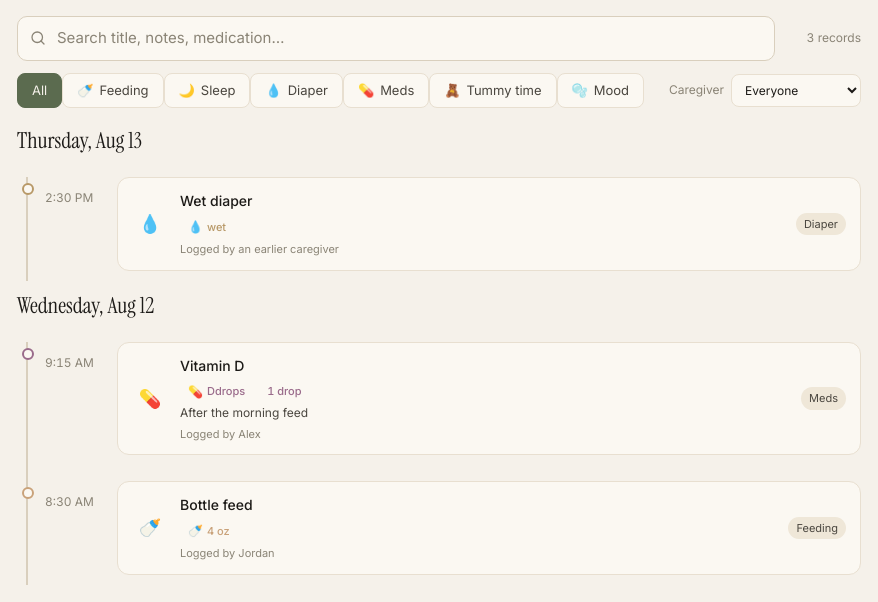
Test: TodayScreen timeline search › combines search and category filters and can reset both
This screenshot has width=878, height=602.
Click the button "🍼Feeding".
click(113, 90)  # box x1=62 y1=72 x2=164 y2=108
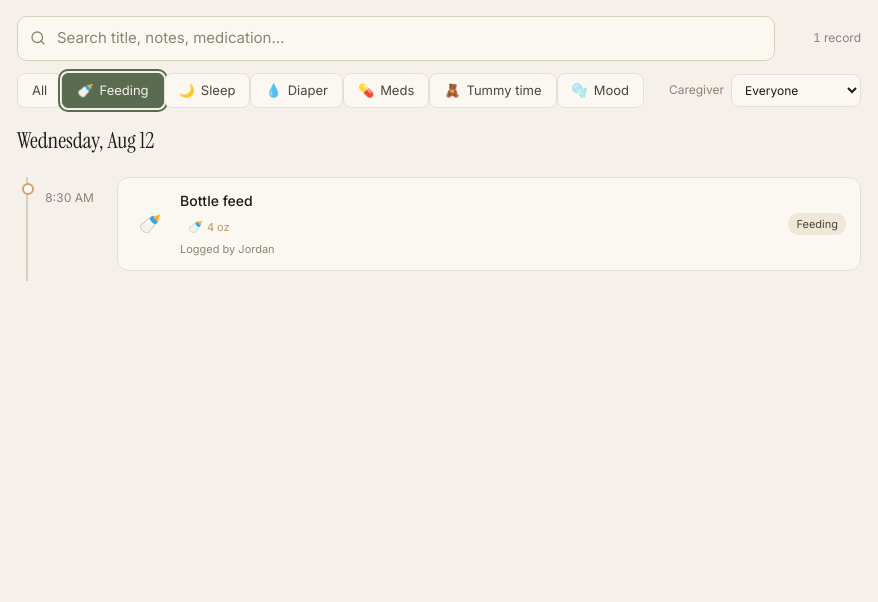
Type "vitamin" into the search field named "Search timeline".
click(409, 38); type("vitamin")  # box x1=55 y1=26 x2=763 y2=50
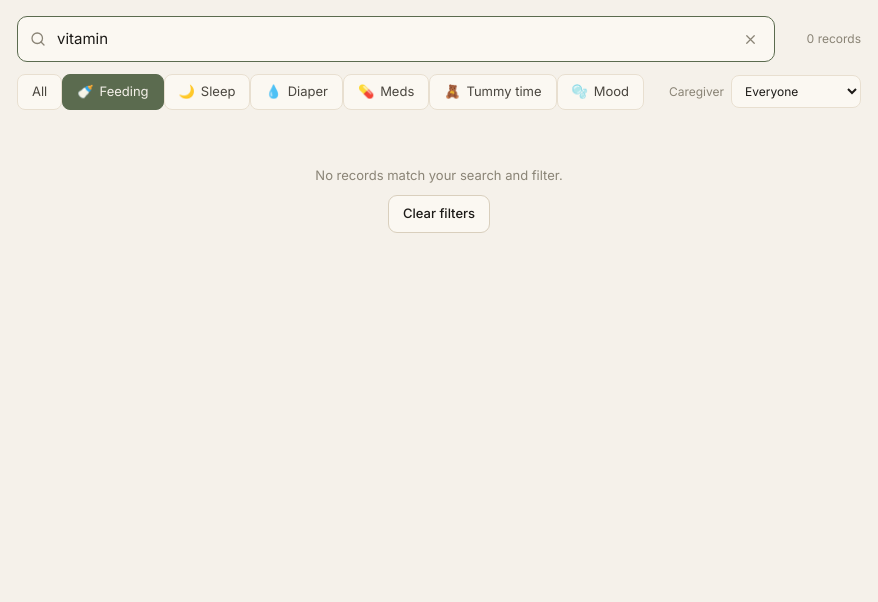
Result: the text "No records match your search and filter." is shown at x1=315 y1=166 x2=563 y2=182
Click the button "Clear filters".
click(439, 214)  # box x1=388 y1=195 x2=490 y2=232
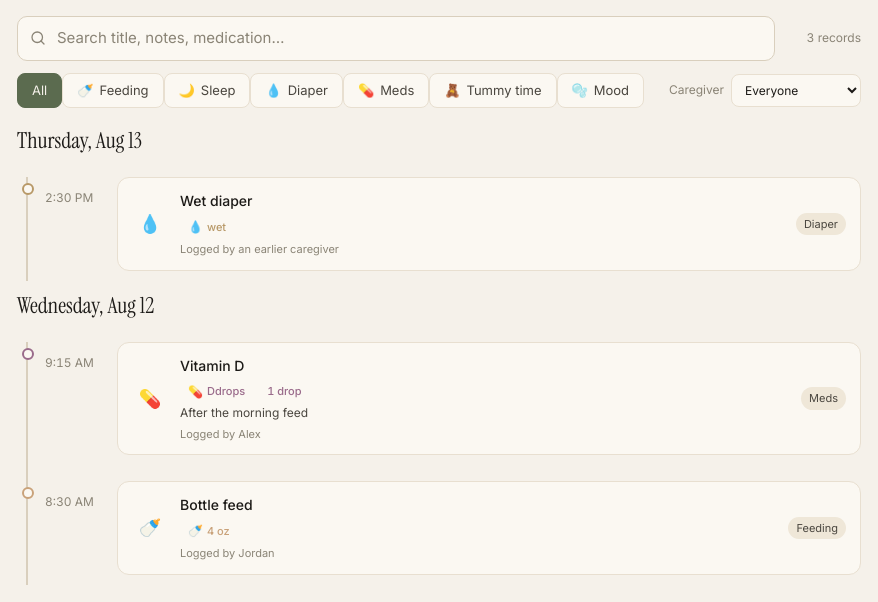
Result: the text "Wet diaper" is shown at x1=180 y1=192 x2=252 y2=209
Result: the text "Vitamin D" is shown at x1=180 y1=356 x2=244 y2=374
Result: the text "Bottle feed" is shown at x1=180 y1=496 x2=253 y2=513
